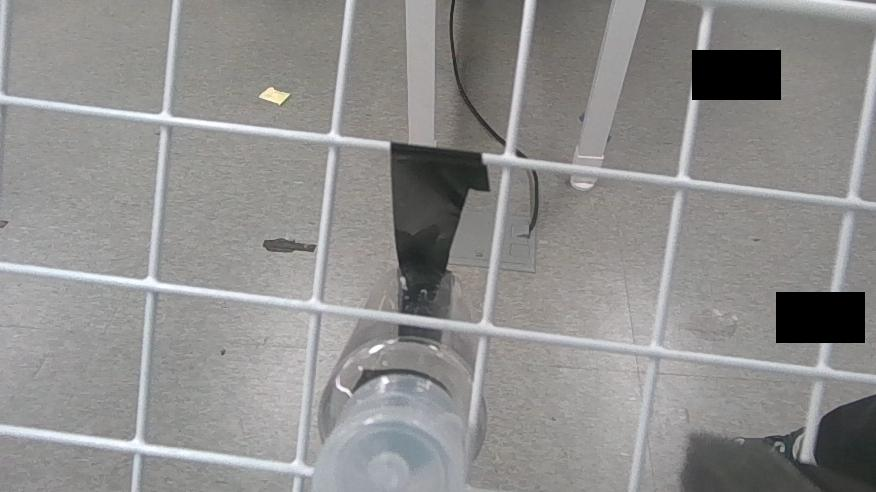Cap: (304, 409, 467, 492)
